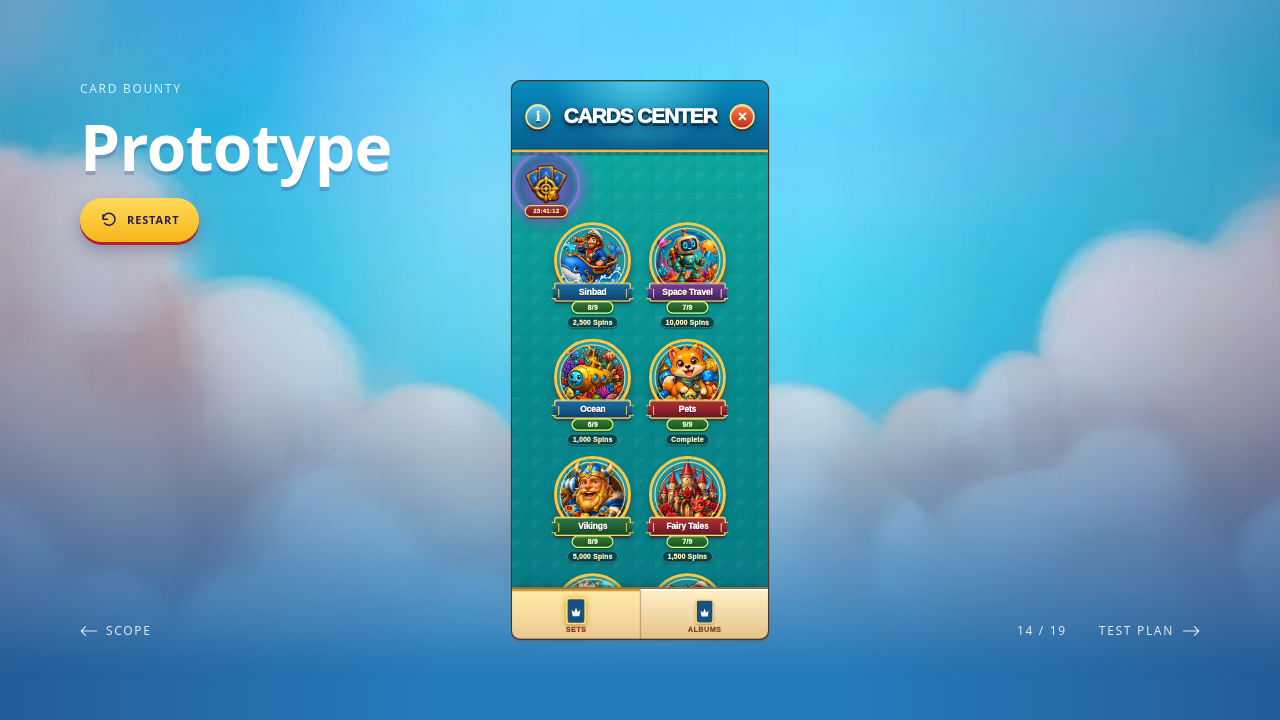
it: MA presentation deck › mounts the prototype only on slide 14 and resets it after revisiting
Step 1. Click the button named "Open Card Bounty" → coordinates (546, 190), box [517, 160, 576, 220]
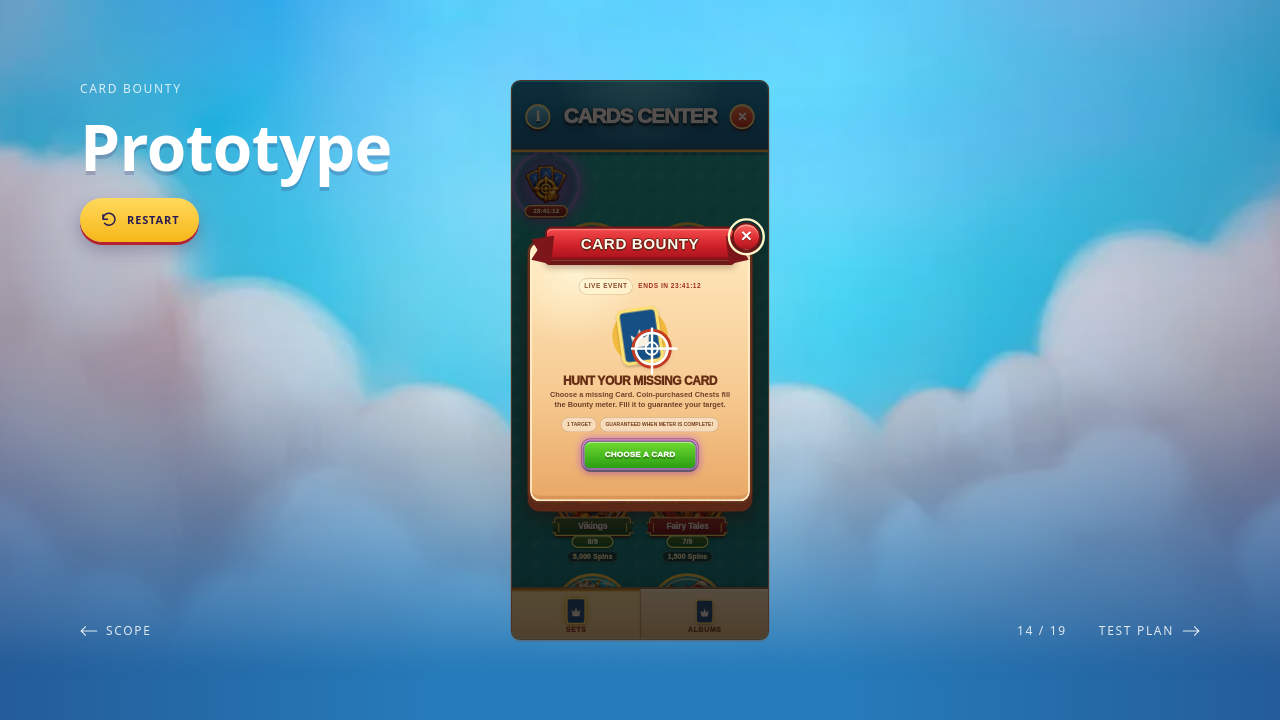
Expected: the dialog "Card Bounty" is shown, [512, 240, 768, 504]
Step 2. Click the button with aria-label "Next: Test plan" → coordinates (1149, 631), box [1099, 622, 1200, 640]
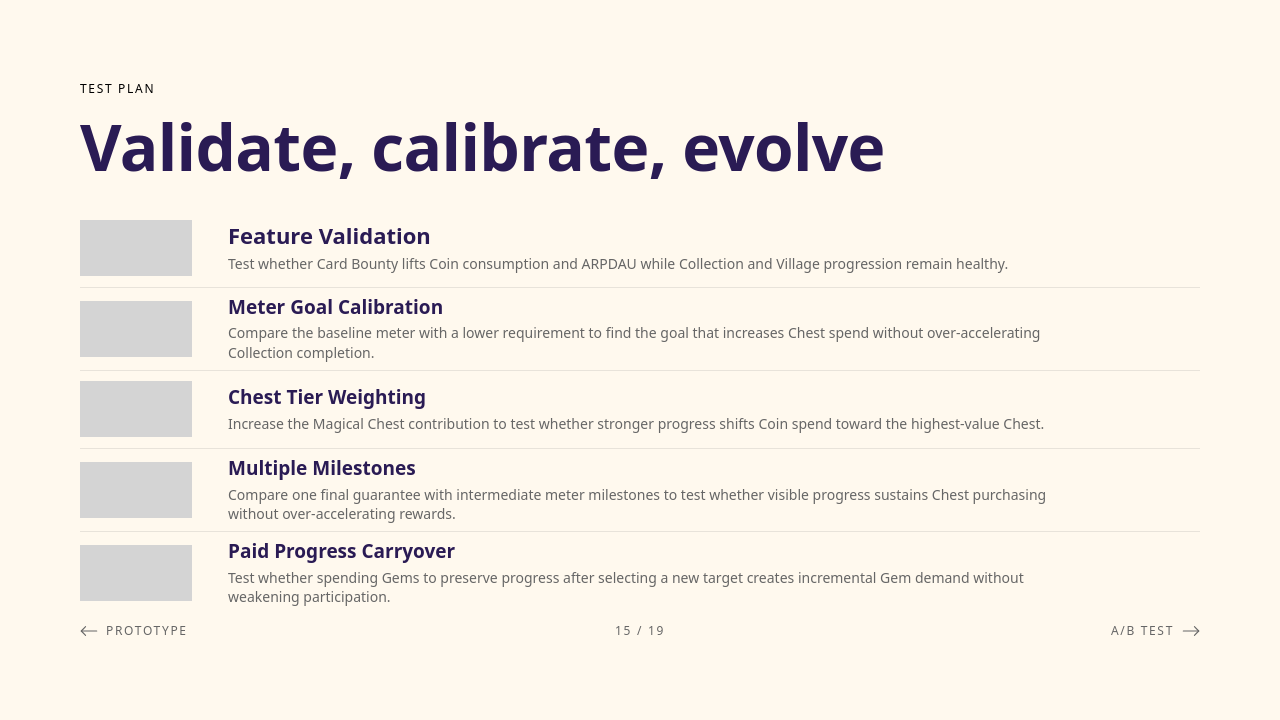
Expected: the element that starts with "Test Plan" has attribute data-current-slide="slide-15"
Step 3. Click the button with aria-label "Previous: Prototype" → coordinates (134, 631), box [80, 622, 188, 640]
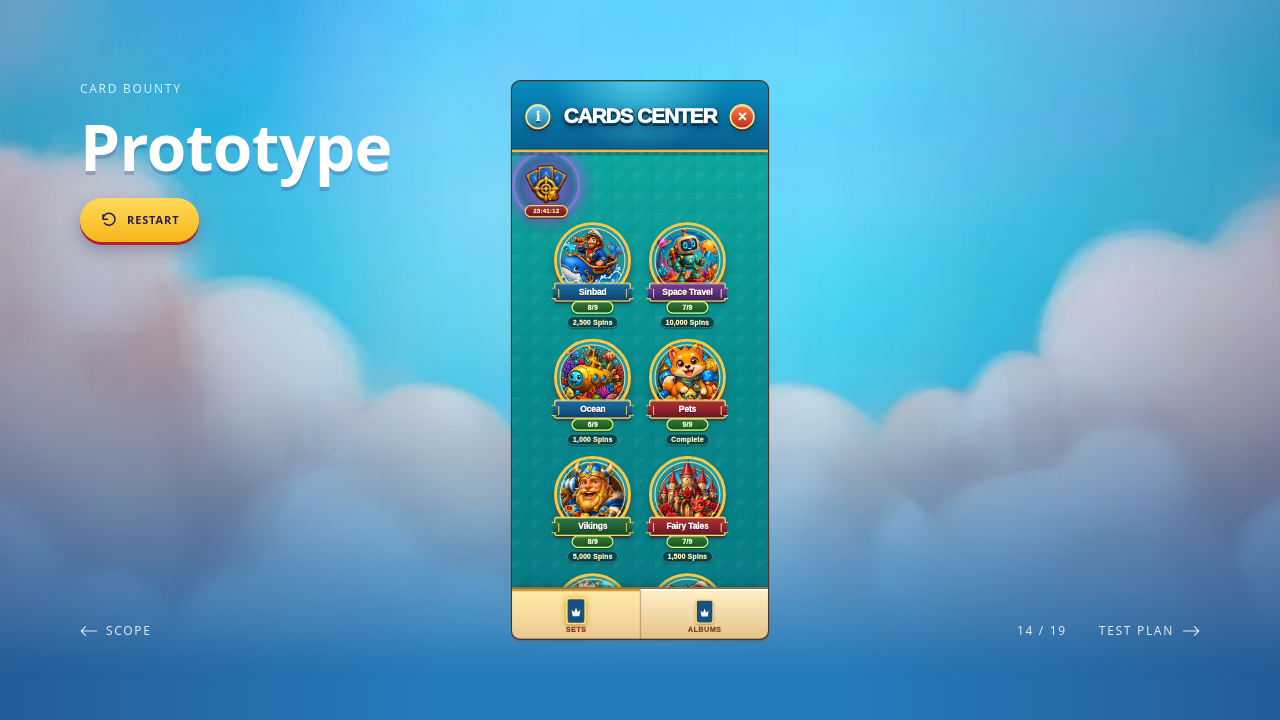
Expected: the button named "Open Card Bounty" is shown, [517, 160, 576, 220]
